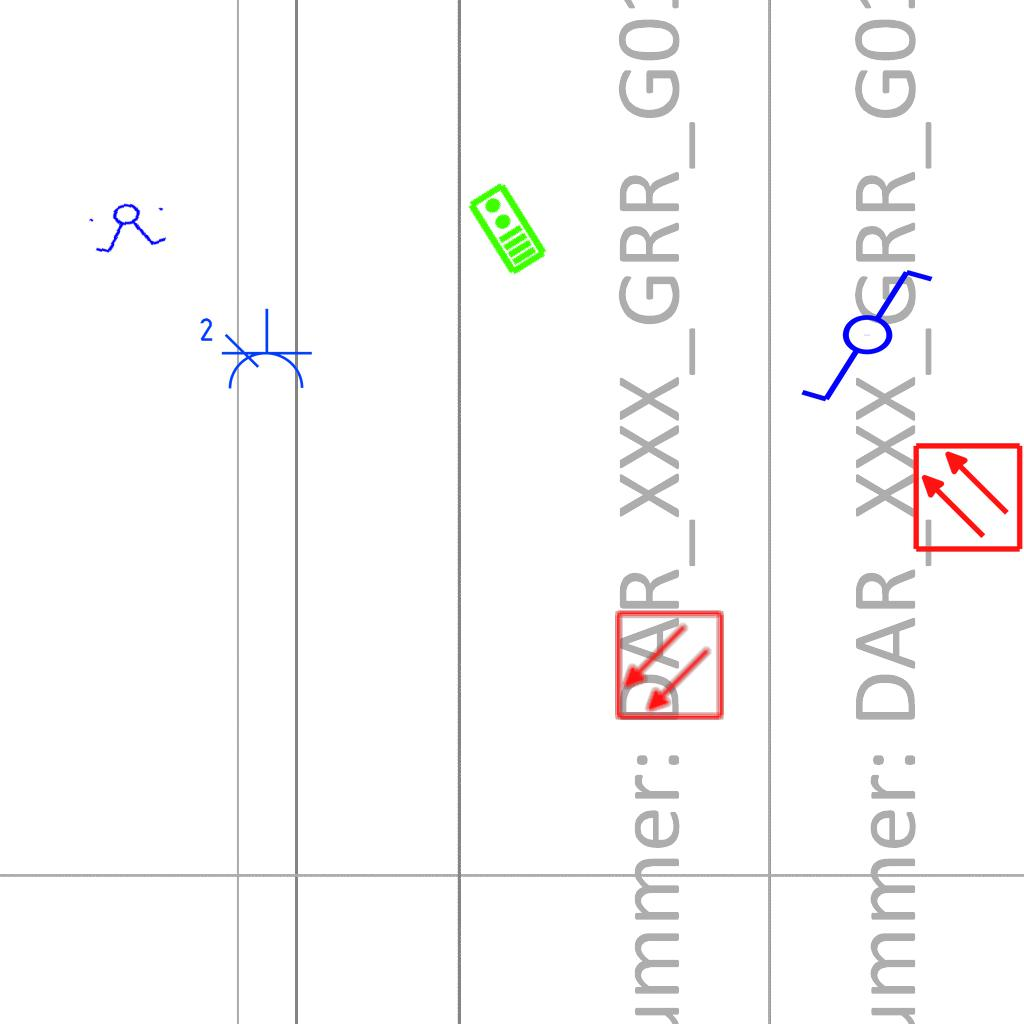Gegensprechanlage_mit_Video: (463, 179, 550, 279)
RMO_Rauchmelder_optischer: (911, 441, 1024, 554), (613, 609, 726, 722)
Schukosteckdose_mehrfach: (193, 307, 314, 395)
Serienschalter: (83, 196, 175, 258)
Wechselschalter: (797, 265, 954, 409)
